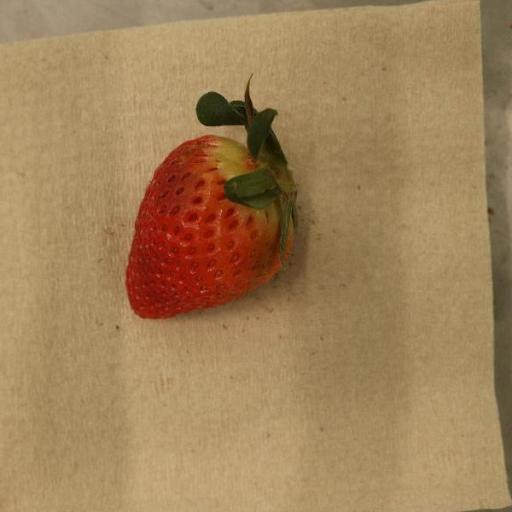Strawberry: (127, 75, 298, 321)
